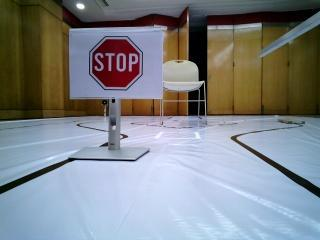stop: (76, 30, 156, 96)
